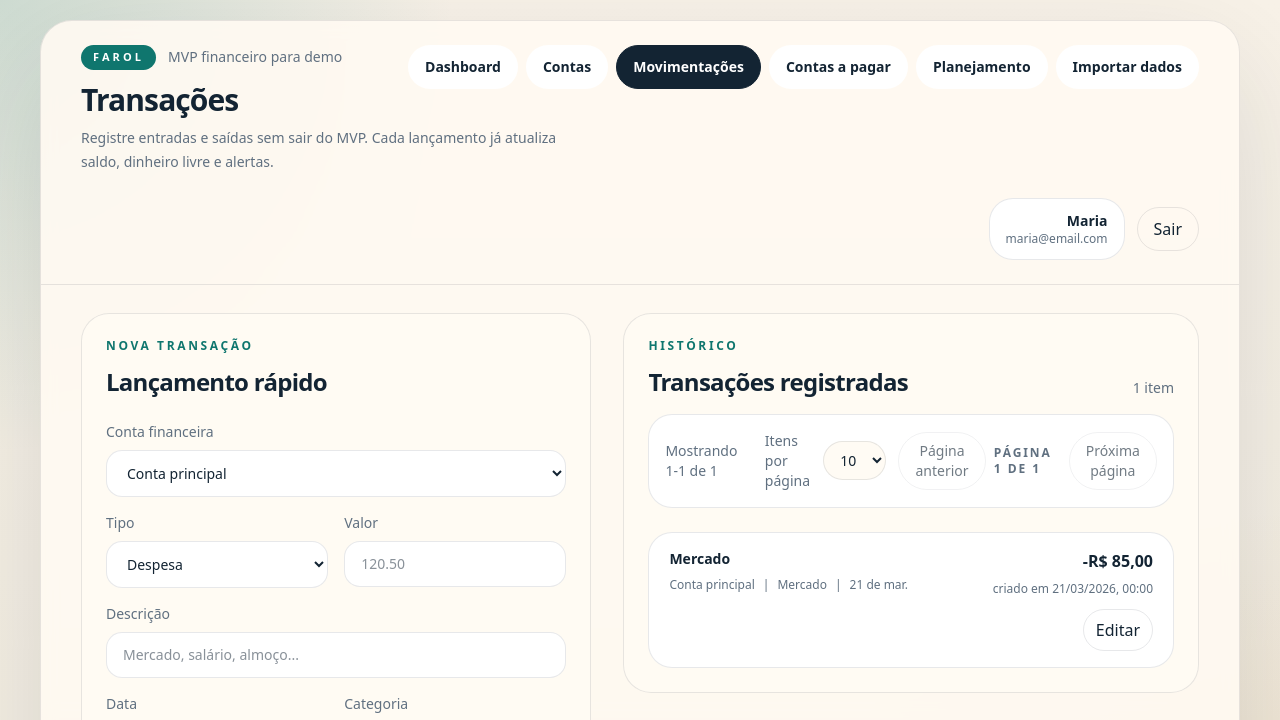
it: TransactionsPage › Transactions_EditTransaction_CancelRestoresCreateMode
Click the button "Editar" at (1118,630), box [1083,608,1153,650]
(page scrolled)
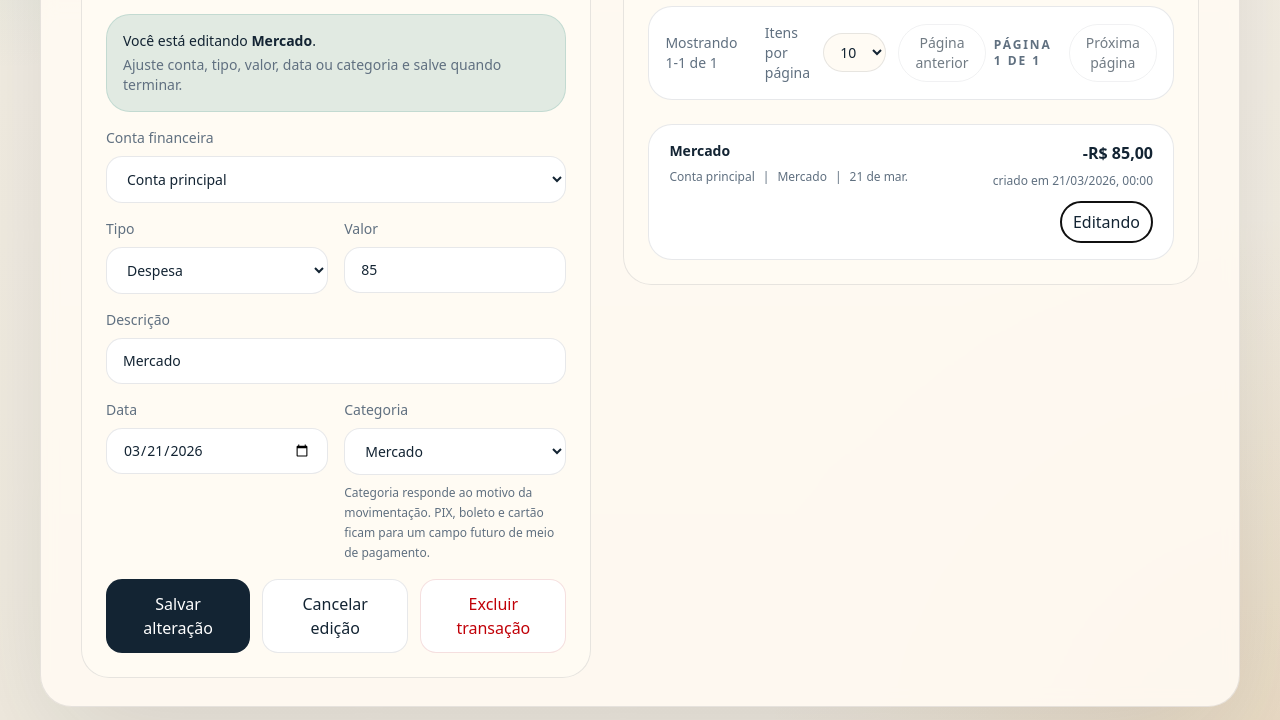
Replace the text in the field labelled "Descrição" with "Texto temporario" at (336,360), box [106,338,566,384]
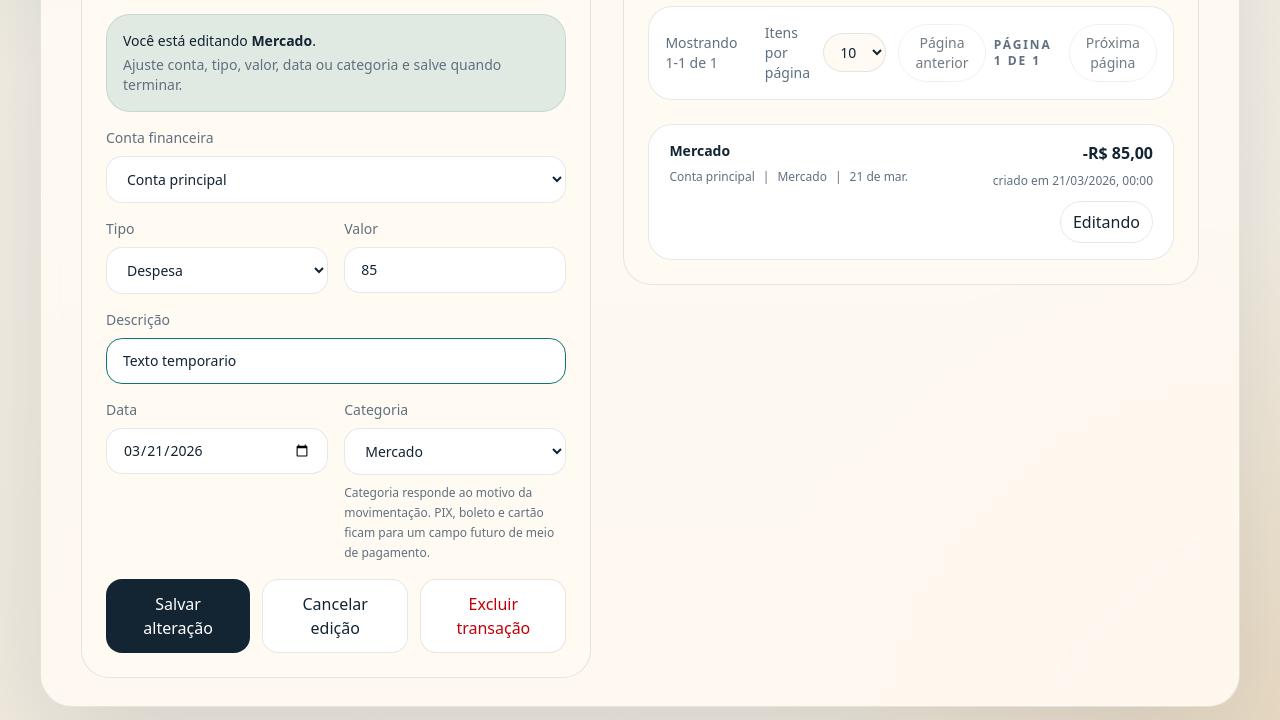
Click the button "Cancelar edição" at (335,616), box [262,578,408,652]
(page scrolled)
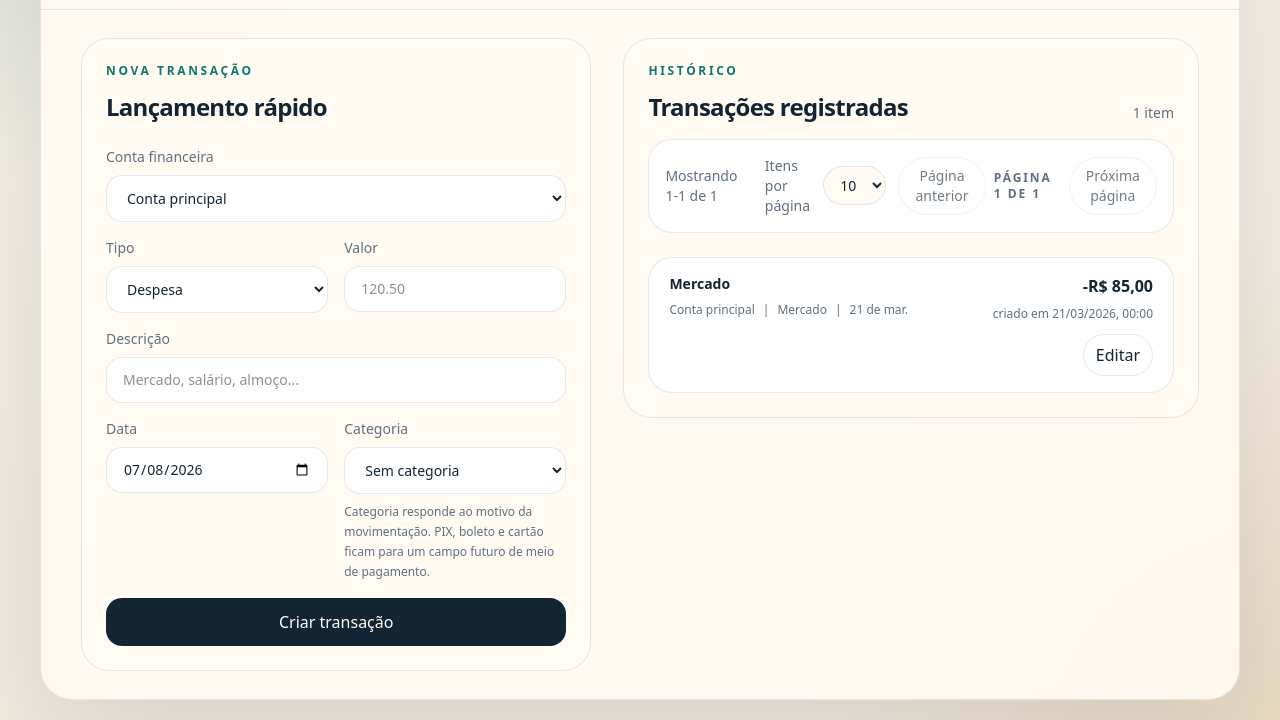
Expected: the text "Nova transação" is shown, [106,62,254,78]
Expected: the button "Criar transação" is shown, [106,598,566,646]
Expected: the button "Cancelar edi" is gone
